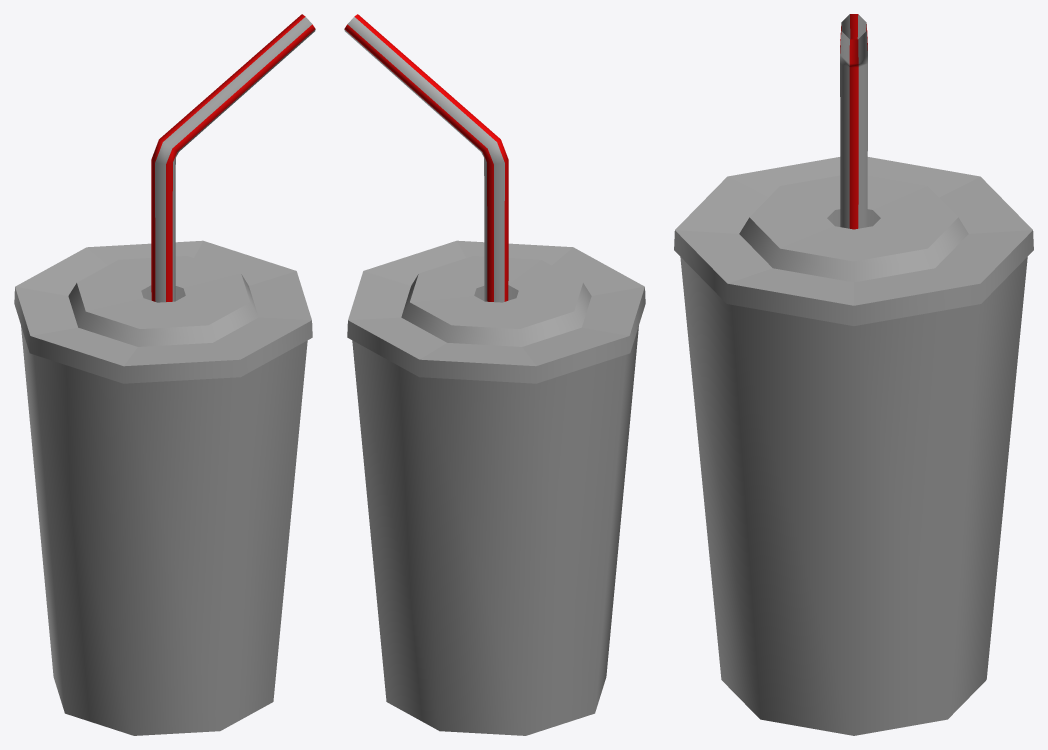
The model's file is fountain_drink_lod2.fbx.
3 renders of one model, left to right at view 1: azimuth 30°, elevation 25°; view 2: azimuth 150°, elevation 25°; view 3: azimuth 270°, elevation 25°, orthographic. The views are drawn at different scales.
Parts seen in each view (by area): view 1: cup, lid, straw; view 2: cup, lid, straw; view 3: cup, lid, straw.
Part boxes in pixels (x1=…): cup: x1=21, y1=285, x2=307, y2=735; lid: x1=14, y1=240, x2=312, y2=383; straw: x1=151, y1=14, x2=315, y2=302; cup: x1=352, y1=285, x2=638, y2=735; lid: x1=347, y1=240, x2=645, y2=383; straw: x1=344, y1=14, x2=508, y2=302; cup: x1=680, y1=209, x2=1027, y2=735; lid: x1=674, y1=157, x2=1033, y2=325; straw: x1=840, y1=14, x2=867, y2=229.
Size of the model in its own units: 12.18 by 26.24 by 11.48.
